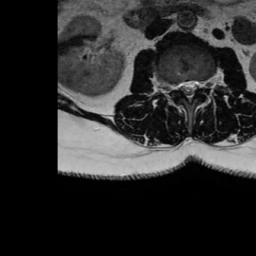CCS_normal: (185, 76, 193, 106)
LFS_normal: (200, 74, 207, 93)
LLS_normal: (193, 76, 200, 96)
RFS_normal: (171, 76, 178, 95)
RLS_normal: (178, 75, 185, 96)
